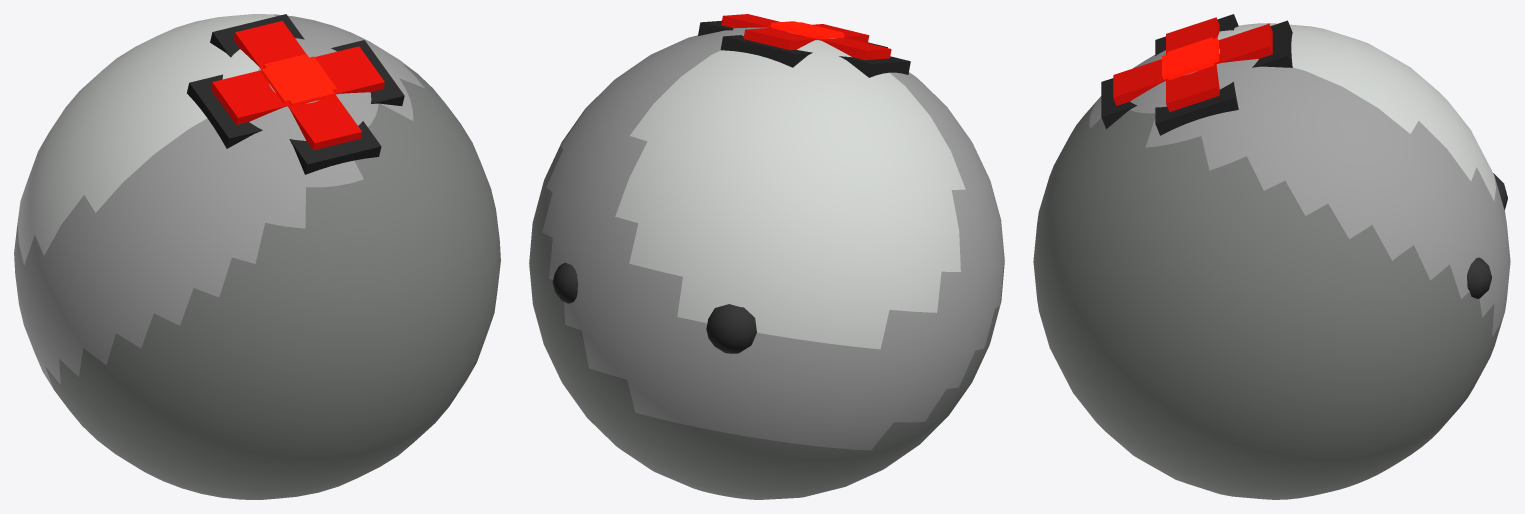
File: seeker_mine_209.glb
3 views of the same model, side by side, from view 1: azimuth 30°, elevation 25°; view 2: azimuth 150°, elevation 25°; view 3: azimuth 270°, elevation 25° (orthographic). The views are drawn at different scales.
Visible parts, largest first — view 1: seeker_mine_209; view 2: seeker_mine_209; view 3: seeker_mine_209.
Boxes of the visible parts, left/top/right/bottom form: seeker_mine_209: left=14, top=14, right=500, bottom=499; seeker_mine_209: left=529, top=14, right=1004, bottom=499; seeker_mine_209: left=1033, top=14, right=1510, bottom=499.
Size of the model in its own units: 8.9 by 9.11 by 8.9.
